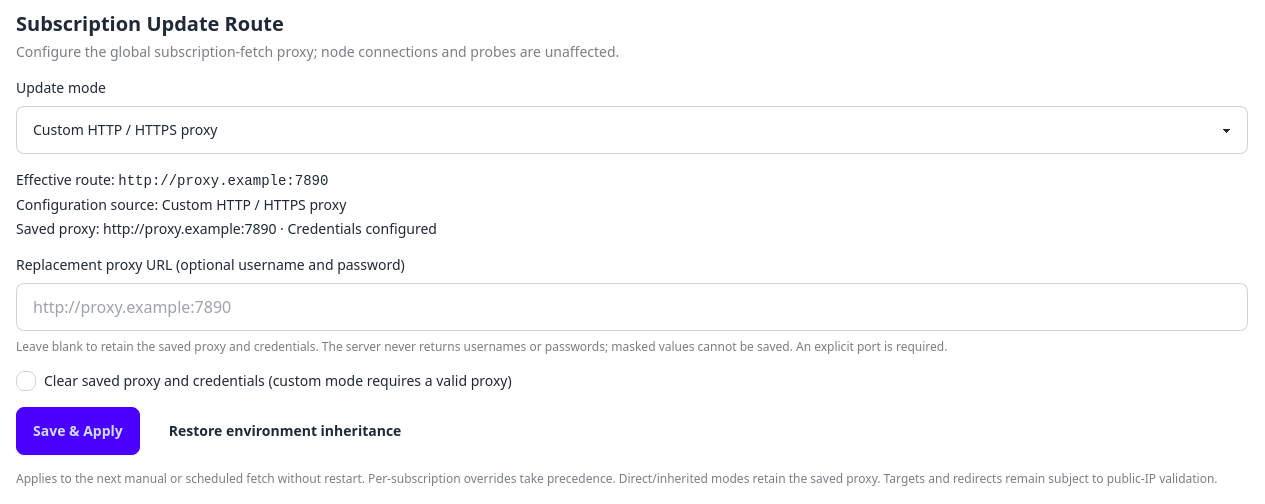
Test: subscription-fetch settings › shows effective direct/inherited state and translated labels
Click the button "Restore environment inheritance" at (285, 431), box [152,407,418,455]
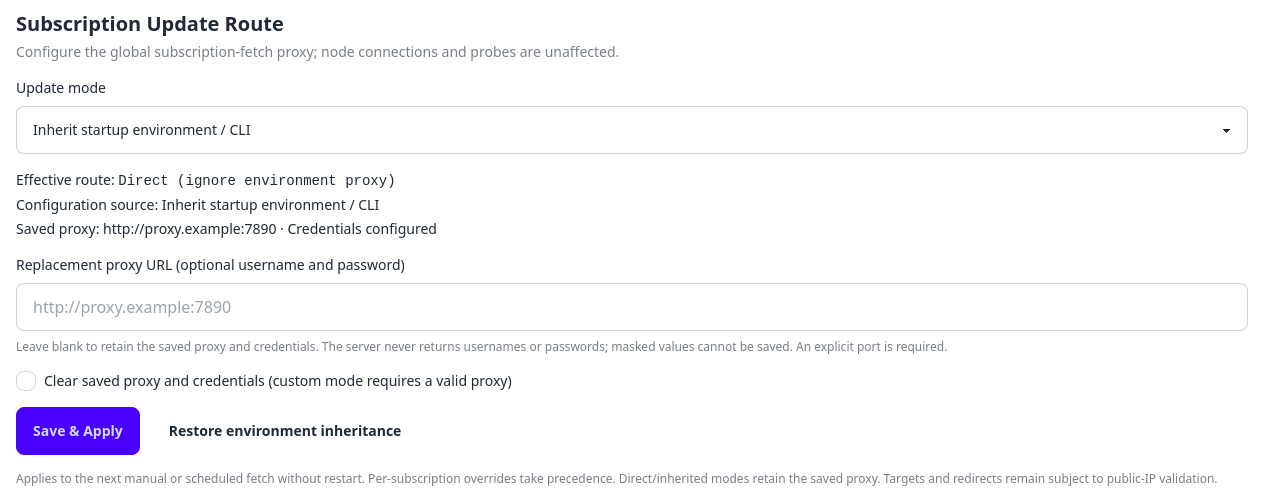
Expected: the text "without restart" is shown, [16,470,1218,487]
Result: the text "Inherit startup environment / CLI" is shown at [16,195,379,214]
Result: the text "Direct (ignore environment proxy)" is shown at [118,173,396,189]
